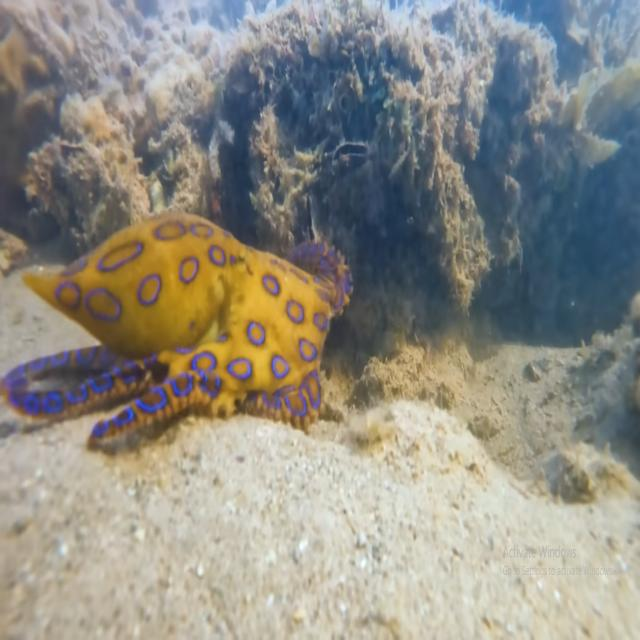blue_ringed_octopus: (0, 210, 354, 453)
